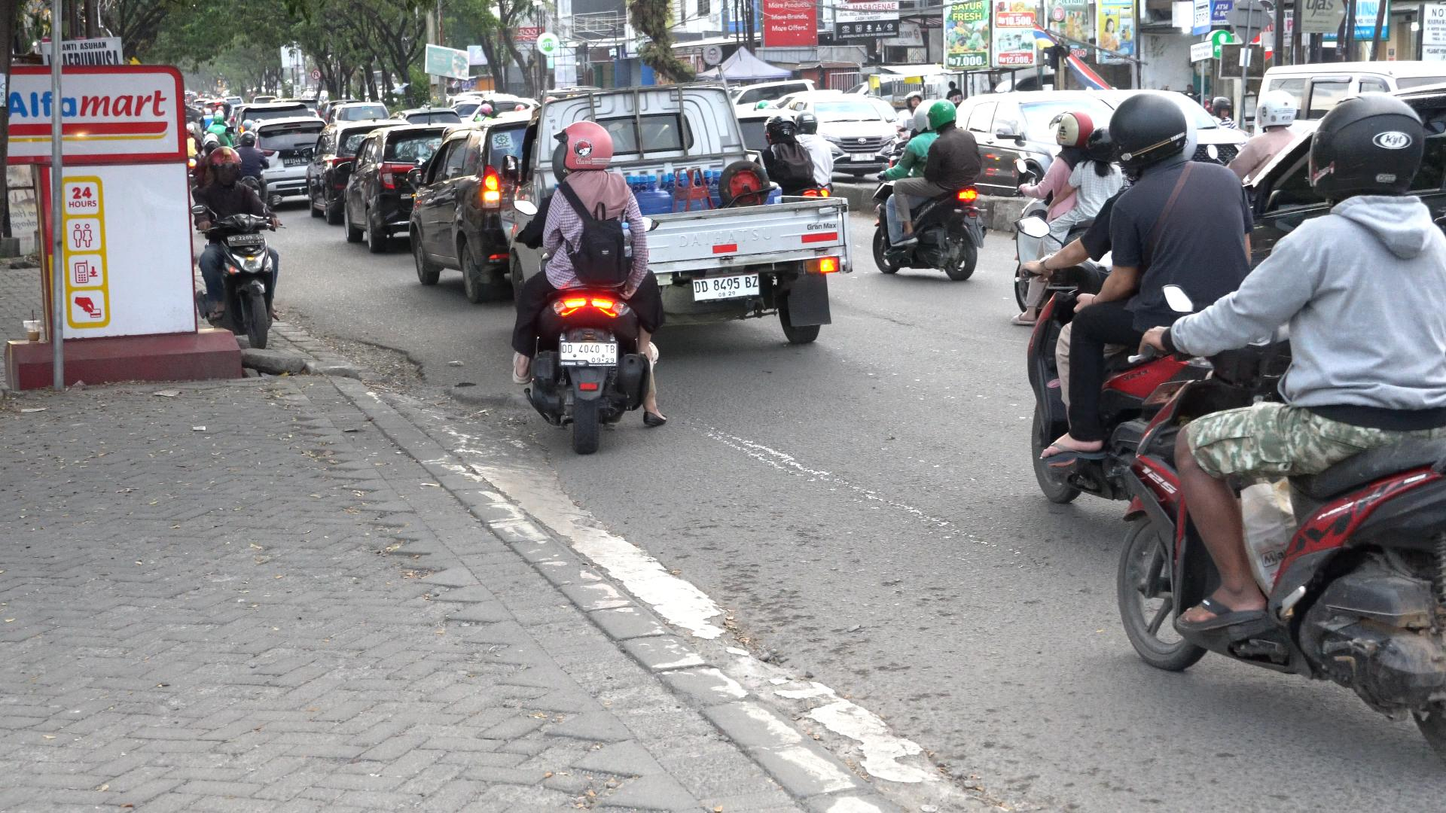number-plate: (229, 231, 264, 249)
